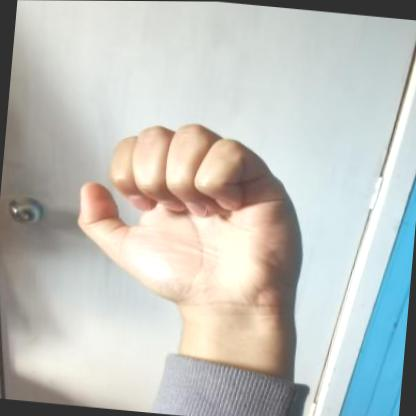E: (50, 108, 330, 341)
